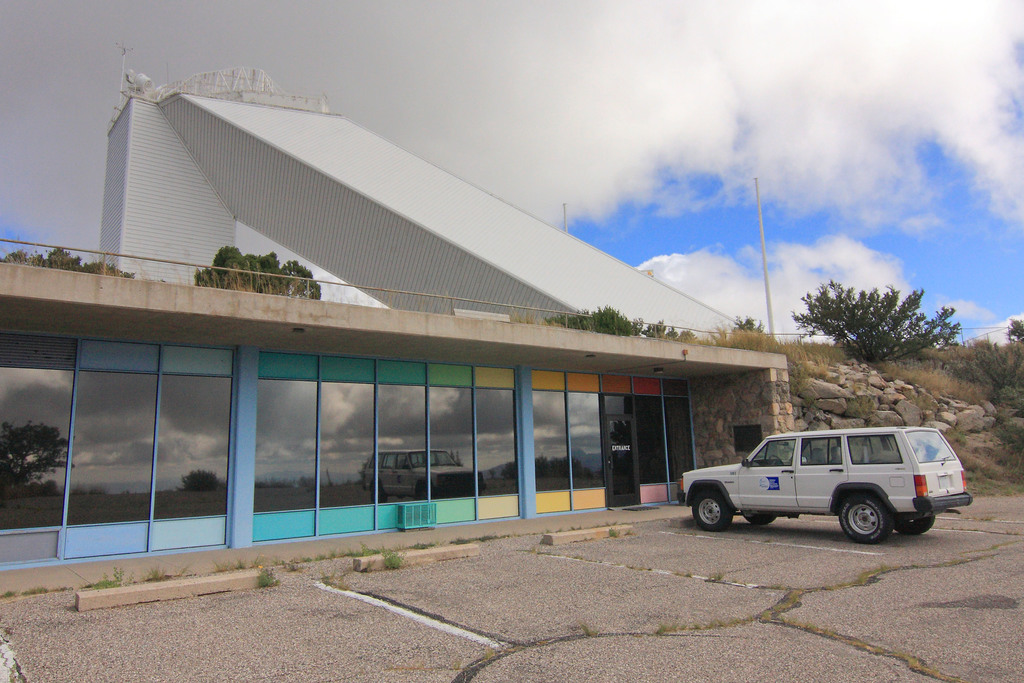Car: (688, 422, 963, 545)
